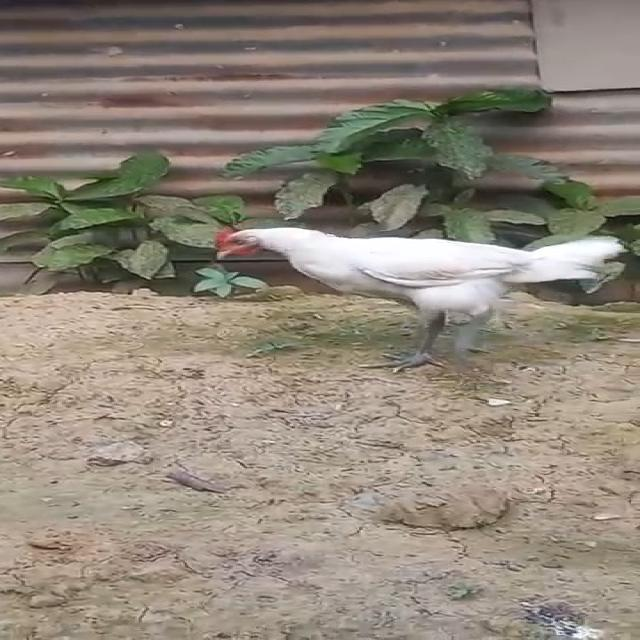walking: (202, 214, 618, 382)
